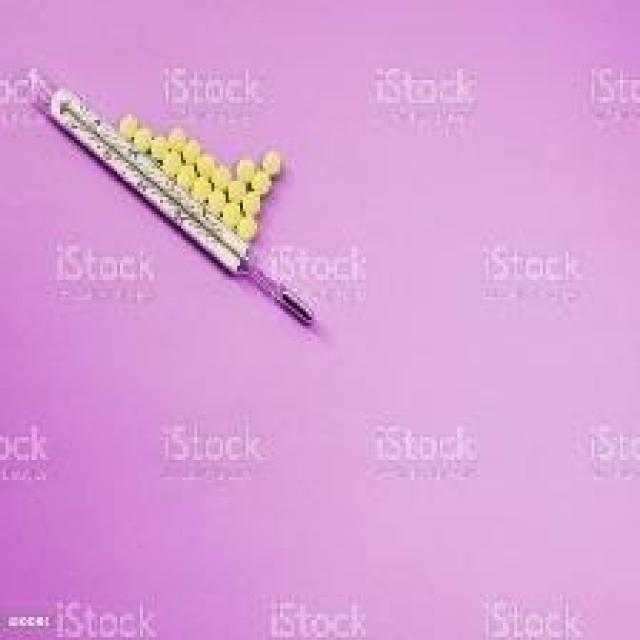Medicine: (58, 75, 300, 286)
